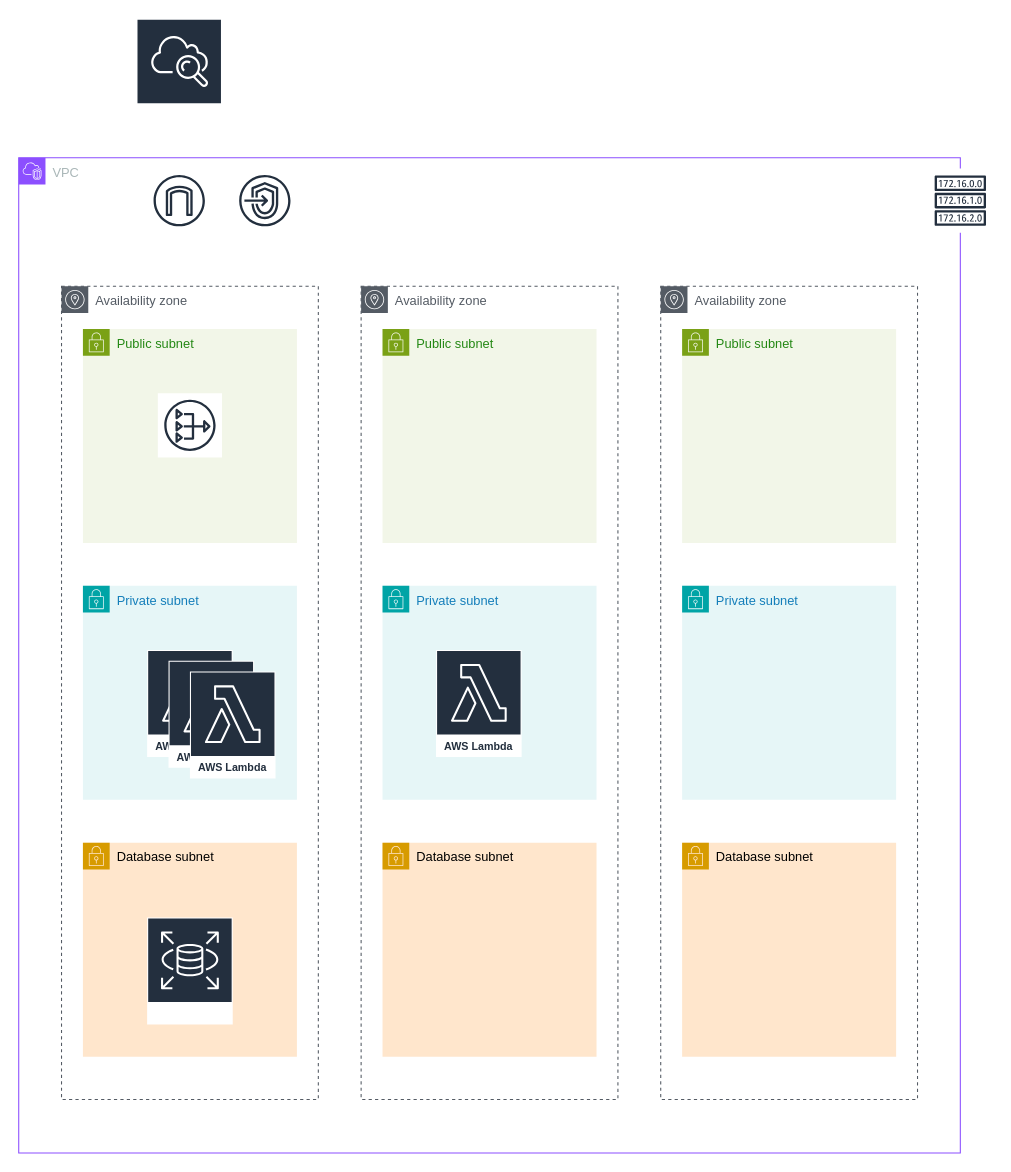
Some shapes in this 1011 by 1172 pixel diagram are drawn without their labels. Here are the shapes that lost their labels. From the top down, the centre of each, then its label:
the point at 178,77: Amazon CloudWatch
the point at 178,200: Internet gateway
the point at 264,200: Endpoints
the point at 959,200: Route table
the point at 189,424: NAT gateway
the point at 189,970: Amazon RDS
